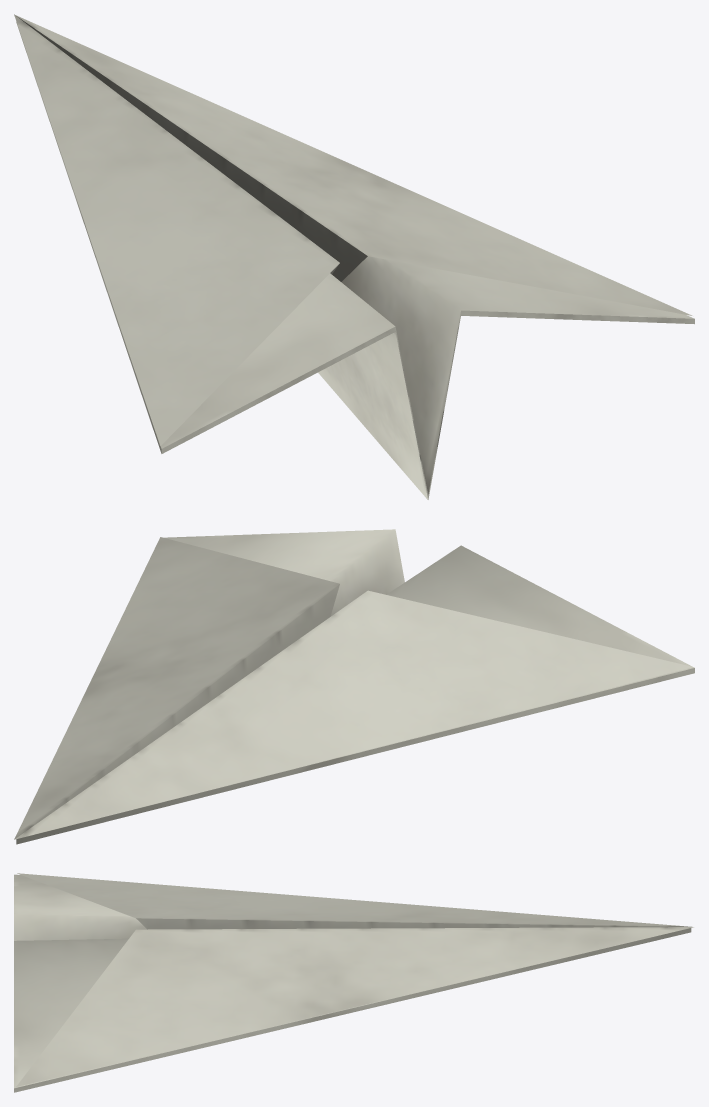
Rendered from avion_en_papier.fbx.
3 views of the same model, one above another, from view 1: azimuth 30°, elevation 25°; view 2: azimuth 150°, elevation 25°; view 3: azimuth 270°, elevation 25° (orthographic). The views are drawn at different scales.
Parts seen in each view (by area): view 1: avion; view 2: avion; view 3: avion.
Part boxes in pixels (x1,y1,x2,y2): avion: (14,14,694,499); avion: (14,529,694,844); avion: (14,873,693,1092).
Size of the model in its own units: 0.1472 by 0.0492 by 0.198.
Materials: 1 (1 with a texture image).
